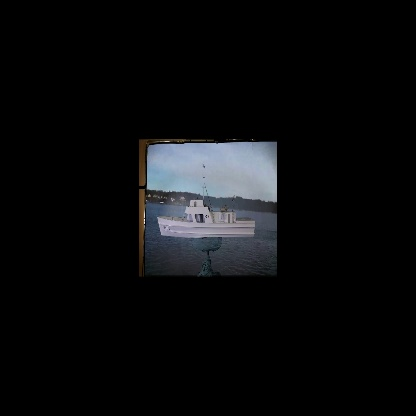YP689: (154, 157, 258, 239)
